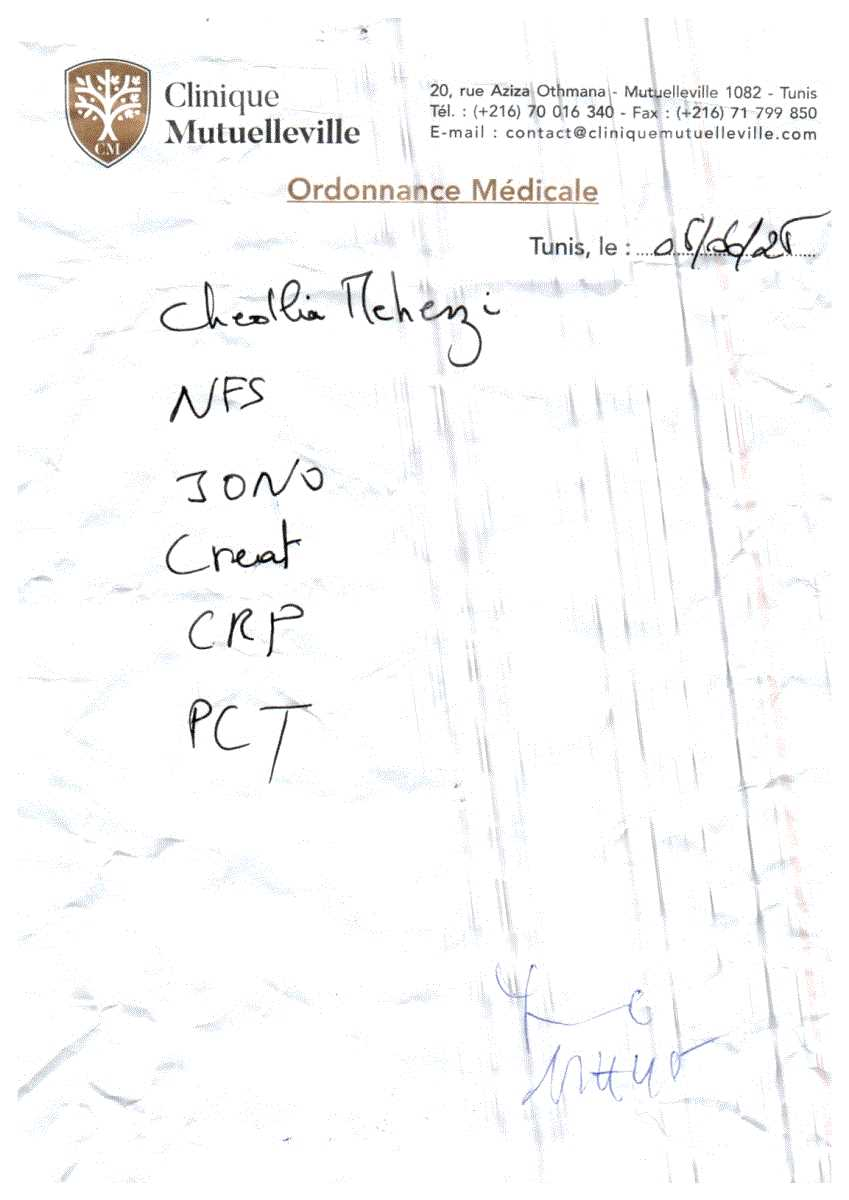zone_analyses: (147, 374, 735, 1152)
zone_date: (646, 217, 840, 282)
zone_patient: (123, 285, 560, 354)
zone_prescripteur: (399, 44, 829, 159)
